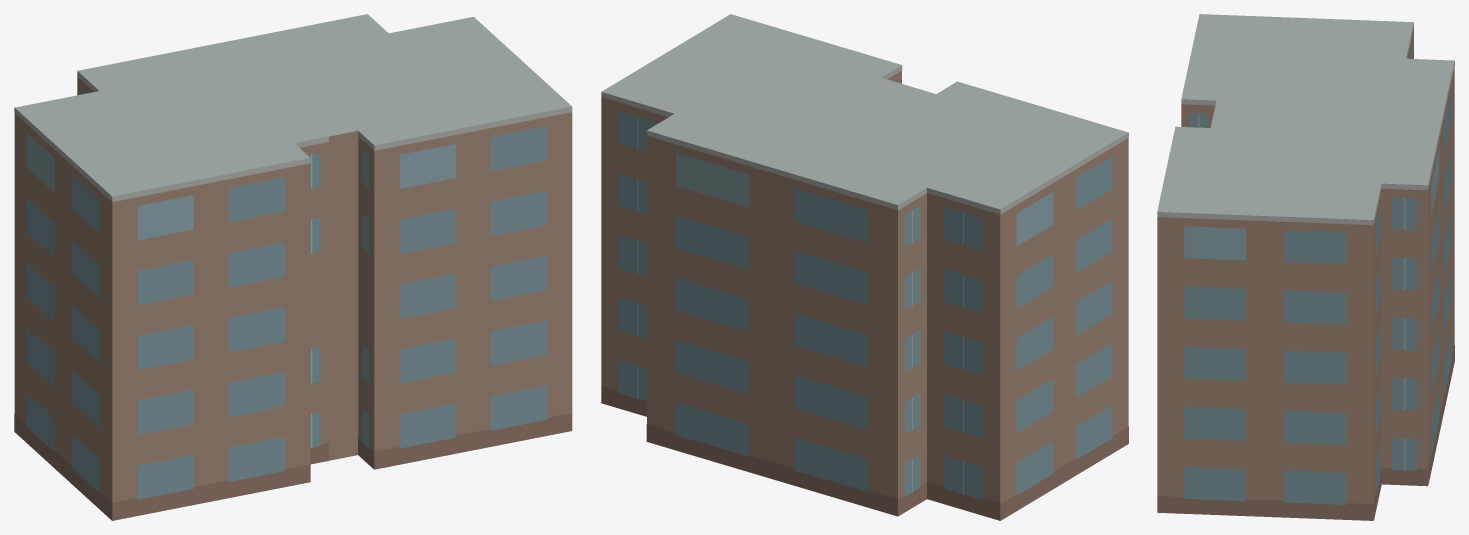
Rendered from survey-upis-32728309.glb.
3 renders of one model, left to right at view 1: azimuth 30°, elevation 25°; view 2: azimuth 150°, elevation 25°; view 3: azimuth 270°, elevation 25°, orthographic. The views are drawn at different scales.
Parts seen in each view (by area): view 1: survey-upis-32728309.tmp; view 2: survey-upis-32728309.tmp; view 3: survey-upis-32728309.tmp.
Part boxes in pixels (bbox=[...]): survey-upis-32728309.tmp: bbox=[14, 14, 572, 520]; survey-upis-32728309.tmp: bbox=[601, 14, 1128, 520]; survey-upis-32728309.tmp: bbox=[1157, 14, 1454, 520].
Bounding box in the file's own units: 21.17 × 14.4 × 12.93.
